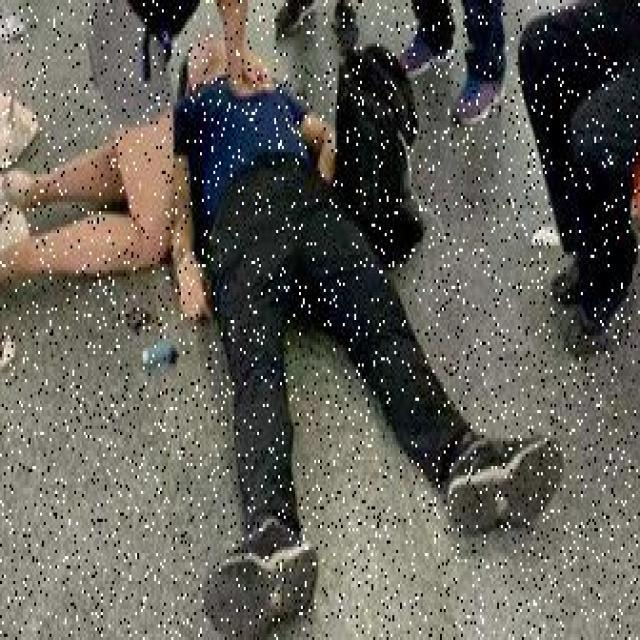fall: (181, 34, 449, 572)
